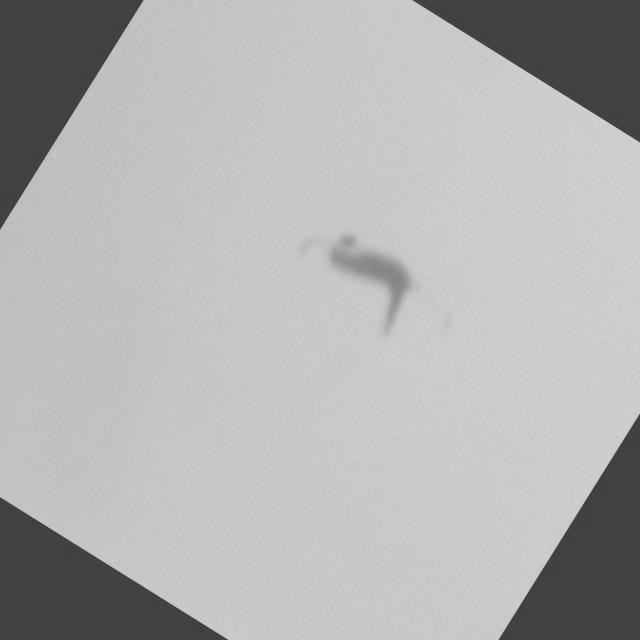aeroplane: (246, 180, 489, 395)
